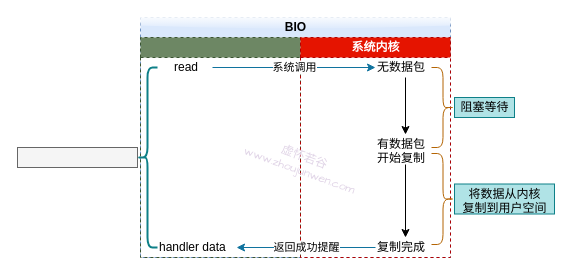
The diagram is 572 pixels wide and 275 high, and some of its shapes have lost their labels. The box of each missing label's shape, as (x1, y1, x2, y2) in pixels:
应用程序: (140, 36, 300, 258)
进程阻塞于read调用: (16, 146, 138, 168)
